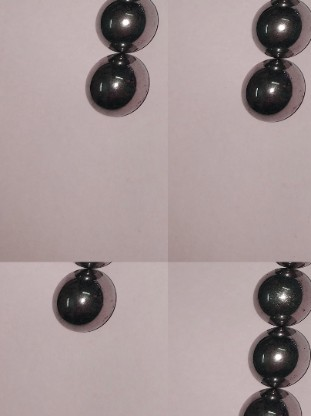ironball: (77, 53, 153, 118), (50, 264, 120, 333), (234, 61, 302, 126), (245, 321, 309, 389), (253, 264, 311, 329), (248, 0, 309, 56), (92, 0, 158, 50), (237, 386, 309, 414)
